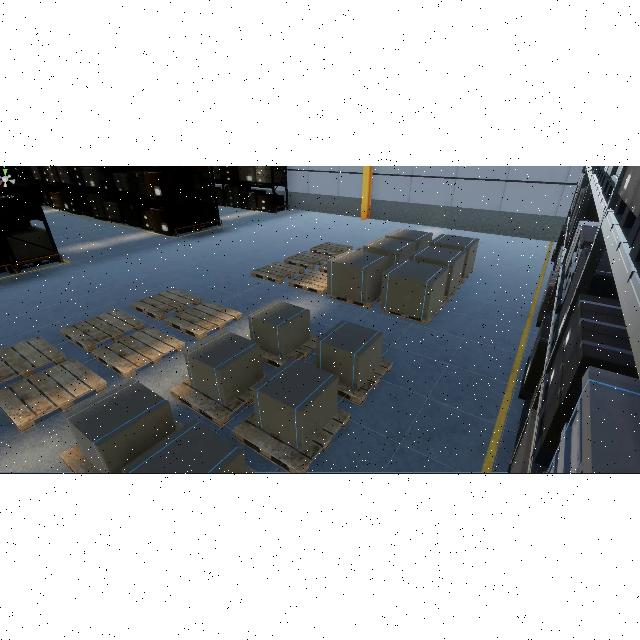wooden_pallet: (232, 410, 352, 474), (92, 326, 186, 379), (170, 378, 253, 428), (59, 309, 146, 352), (166, 301, 243, 340), (338, 360, 393, 406), (130, 288, 203, 321), (380, 301, 445, 324), (250, 261, 306, 285), (287, 269, 327, 296), (330, 293, 381, 309)
